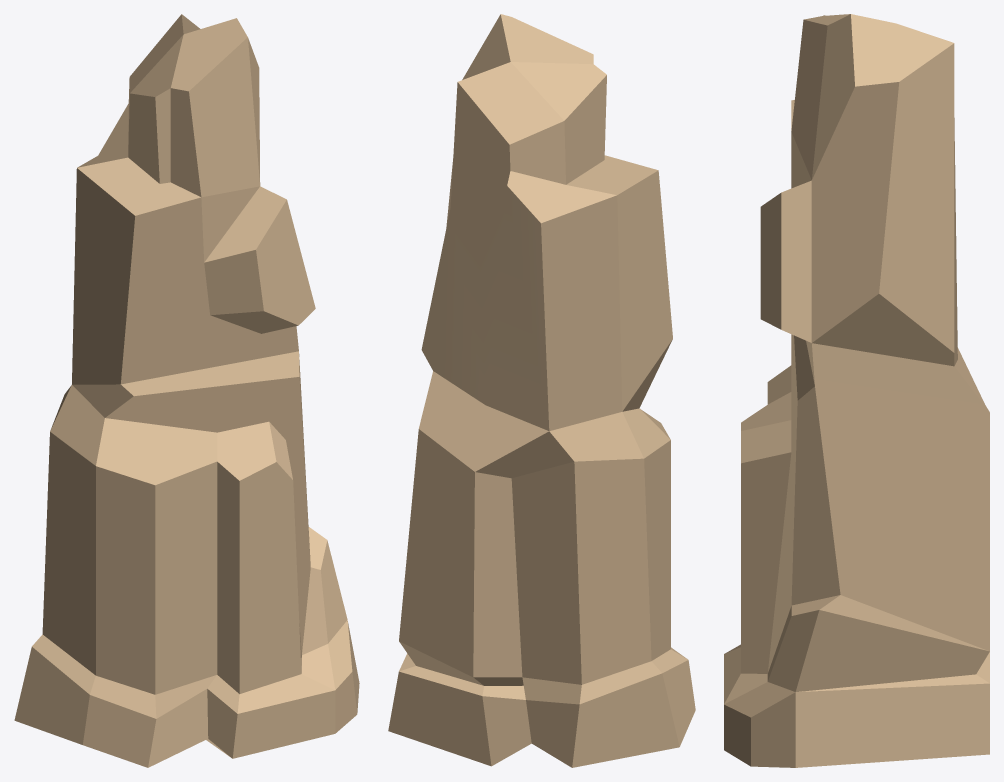
The model's file is nature_rock-pillar.fbx.
3 views of the same model, side by side, from view 1: azimuth 30°, elevation 25°; view 2: azimuth 150°, elevation 25°; view 3: azimuth 270°, elevation 25° (orthographic). The views are drawn at different scales.
Visible parts, largest first — view 1: nature_rock_pillar; view 2: nature_rock_pillar; view 3: nature_rock_pillar.
Boxes of the visible parts, x1,y1,x2,y2 form: nature_rock_pillar: (14,14,359,767); nature_rock_pillar: (388,14,695,767); nature_rock_pillar: (724,14,989,767).
Size of the model in its own units: 90.02 by 200 by 66.29.
